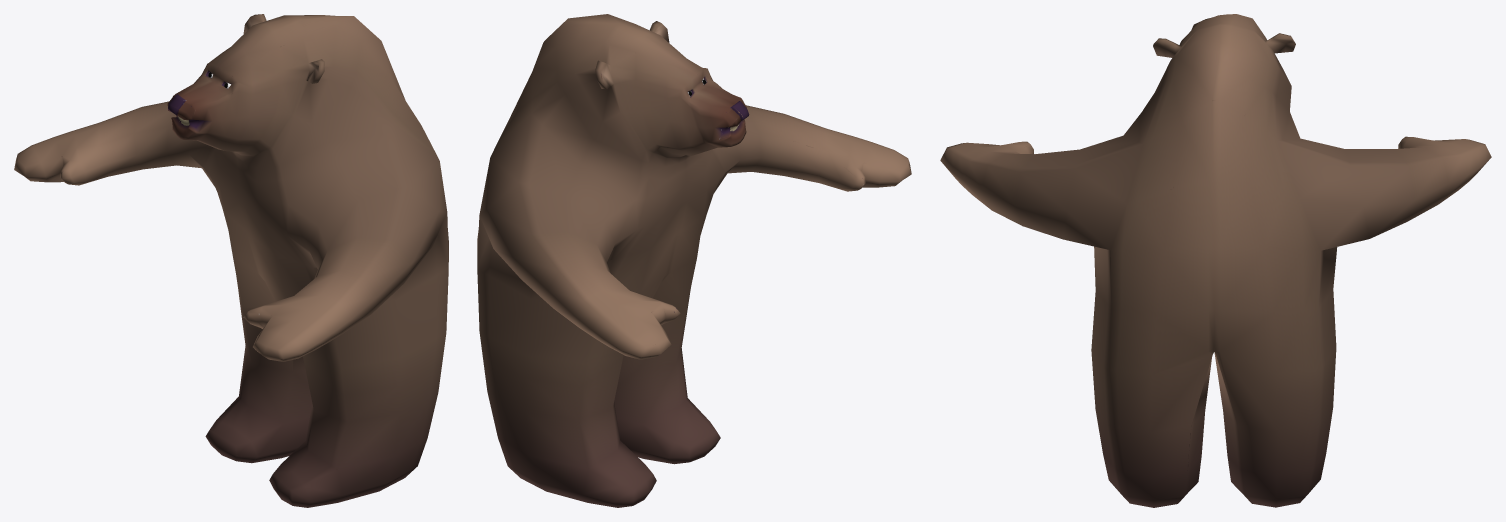
Rendered from druid04.fbx.
3 renders of one model, left to right at view 1: azimuth 30°, elevation 25°; view 2: azimuth 150°, elevation 25°; view 3: azimuth 270°, elevation 25°, orthographic.
Parts seen in each view (by area): view 1: druid; view 2: druid; view 3: druid.
Part boxes in pixels (<box>): druid: <box>14,14,448,507</box>; druid: <box>477,14,911,507</box>; druid: <box>940,14,1491,507</box>.
Size of the model in its own units: 1.19 by 1.8 by 1.97.
